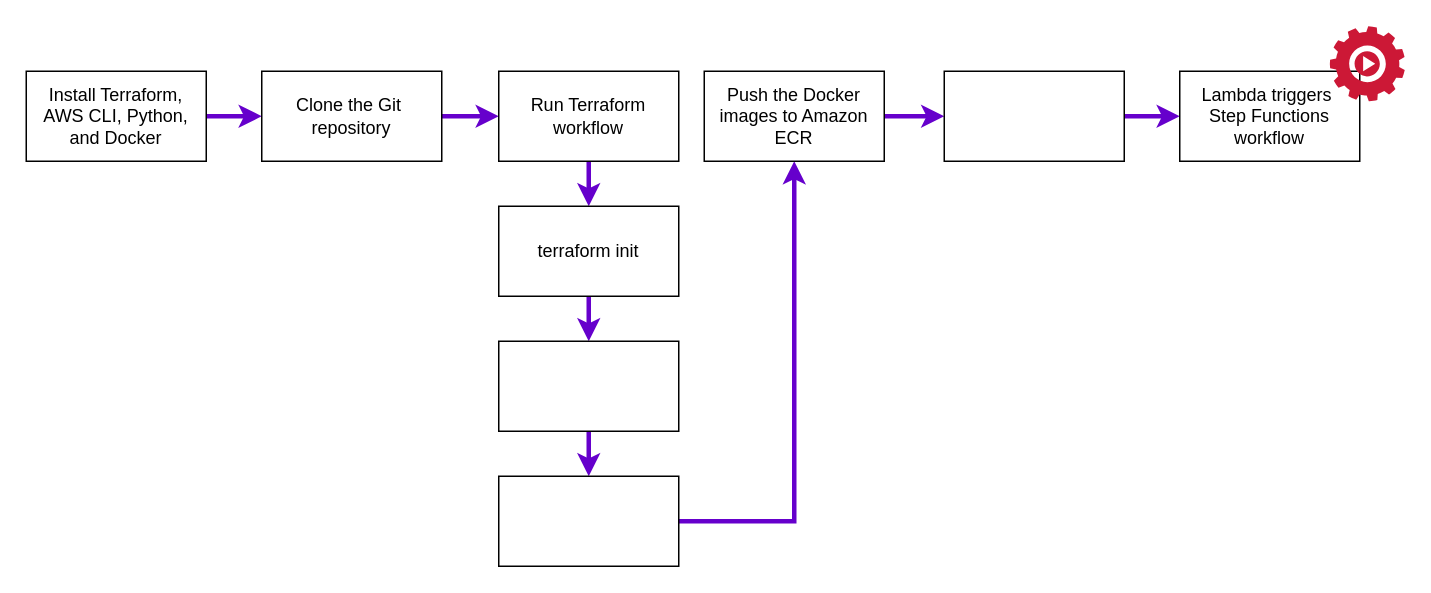
The diagram is 1431 pixels wide and 593 high, and some of its shapes have lost their labels. The centre of each missing label's shape, as x and y in pixels:
terraform apply: pixel 588 520
terraform plan: pixel 588 385
Upload mock data to the landing s3 bucket: pixel 1033 115
